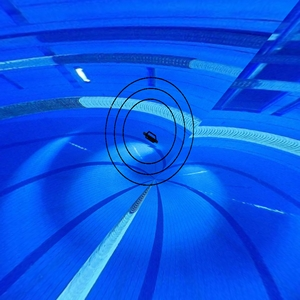circle: (100, 76, 202, 191)
submarine: (140, 127, 169, 149)
